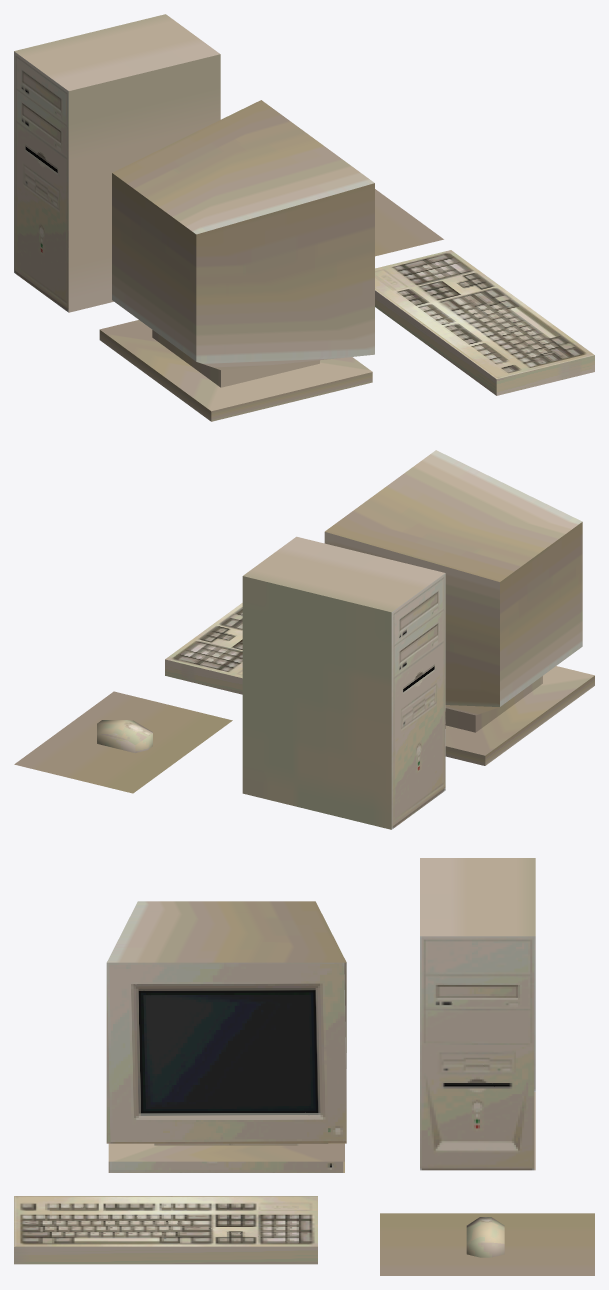
The model's file is computer.fbx.
3 renders of one model, top to bottom at view 1: azimuth 30°, elevation 25°; view 2: azimuth 150°, elevation 25°; view 3: azimuth 270°, elevation 25°, orthographic. The views are drawn at different scales.
Visible parts, largest first — view 1: computer; view 2: computer; view 3: computer.
Boxes of the visible parts, bbox=[...] form: computer: bbox=[14, 14, 594, 421]; computer: bbox=[14, 450, 594, 829]; computer: bbox=[14, 858, 594, 1275].
Size of the model in its own units: 66.37 by 38.74 by 87.16.
Materials: 1 (1 with a texture image).
